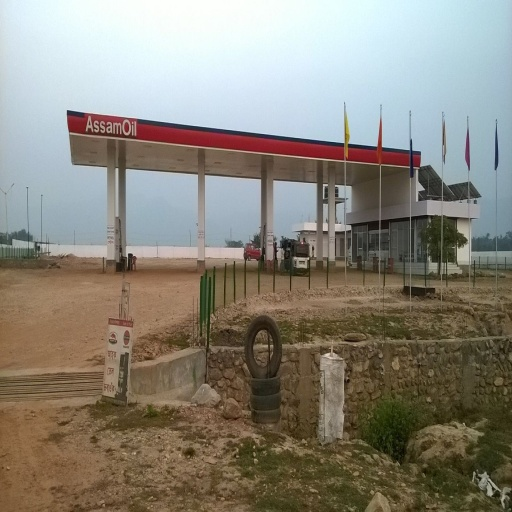roof: (67, 108, 421, 185)
